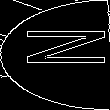N_E: (5, 35, 105, 75)
